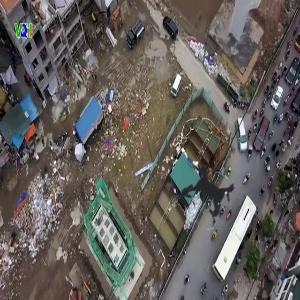drone: (153, 140, 264, 251)
